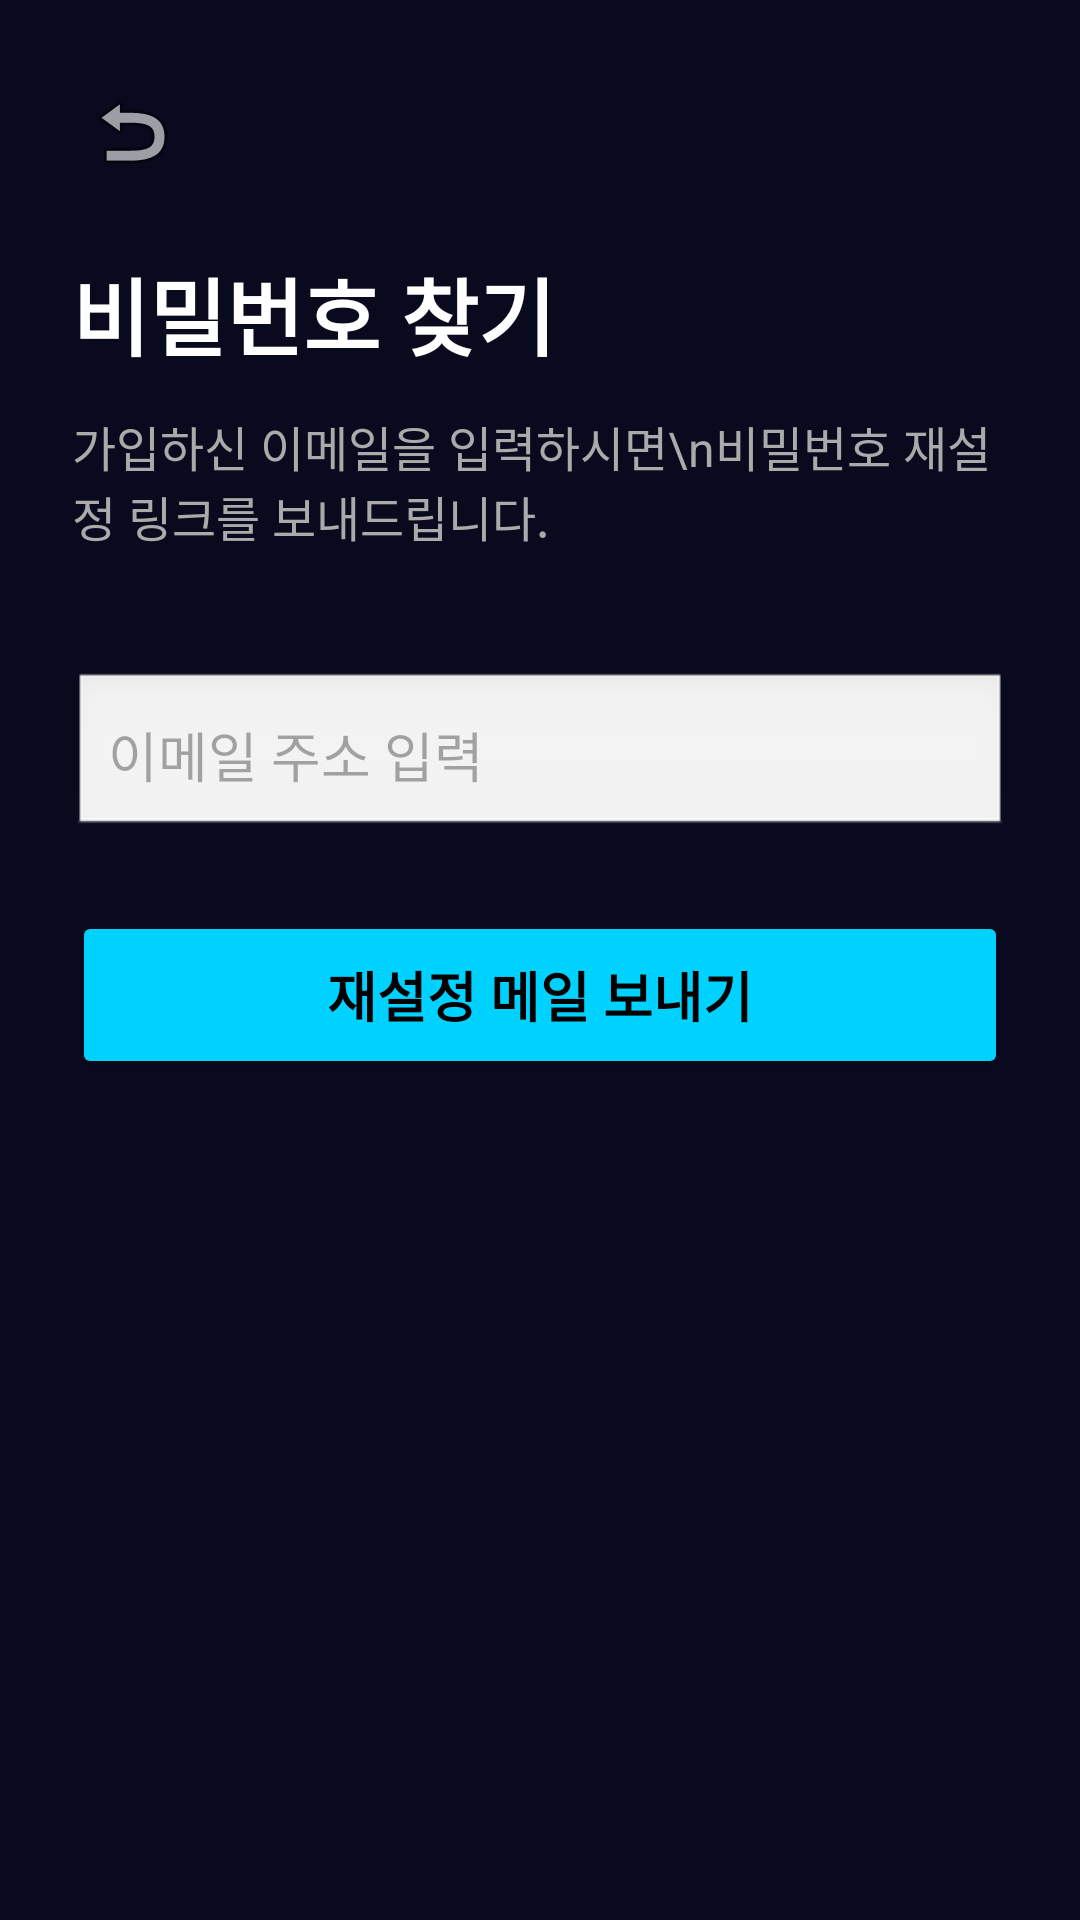

Named icons in this screenshot (1080px×1920px) and their bounding boxes, box(x1, y1, x2, y2):
뒤로가기: box(102, 104, 165, 161)
